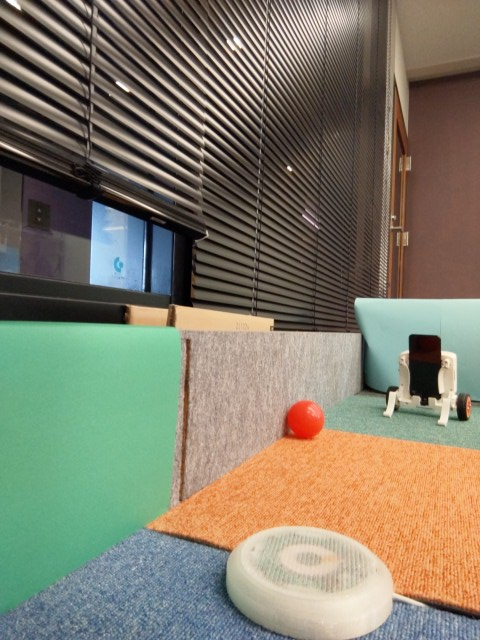f: (379, 324, 475, 429)
o: (217, 521, 397, 640)
